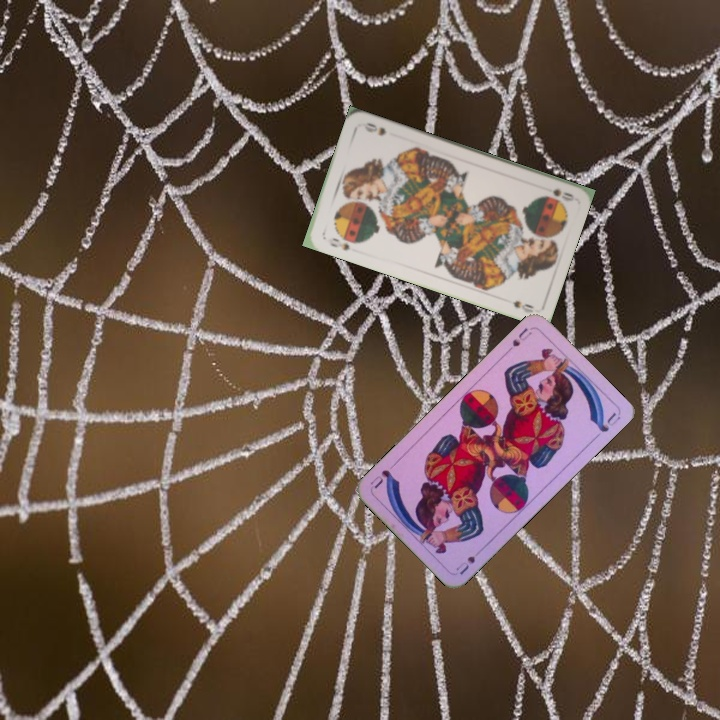SO: (548, 184, 576, 204), (326, 234, 353, 253)
SU: (502, 324, 535, 356), (452, 552, 478, 577)
